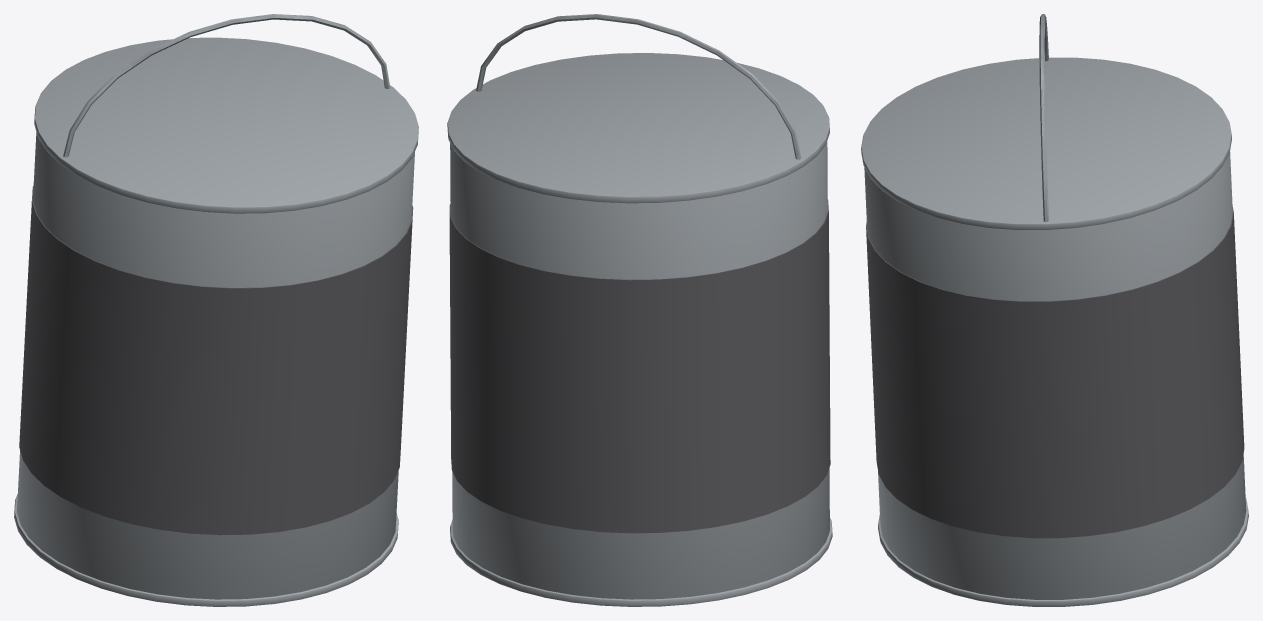
Rendered from IMP-LIQ-002_anim.glb.
3 views of the same model, side by side, from view 1: azimuth 30°, elevation 25°; view 2: azimuth 150°, elevation 25°; view 3: azimuth 270°, elevation 25° (orthographic). The views are drawn at different scales.
Visible parts, largest first — view 1: IMP-LIQ-002_anim0; view 2: IMP-LIQ-002_anim0; view 3: IMP-LIQ-002_anim0.
Boxes of the visible parts, box(x1,y1,x2,y2) form: IMP-LIQ-002_anim0: box(14, 14, 418, 606); IMP-LIQ-002_anim0: box(447, 14, 832, 606); IMP-LIQ-002_anim0: box(861, 14, 1248, 606).
Size of the model in its own units: 0.3143 by 0.4489 by 0.3177.
3 materials, 1 textured.
